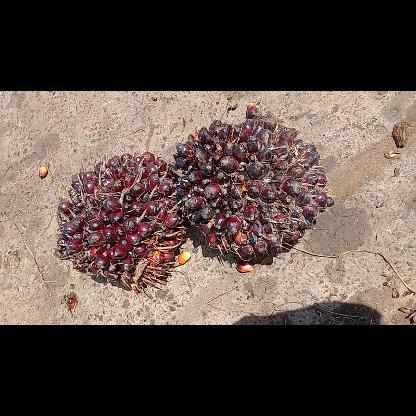Kurang masak: (172, 117, 336, 261), (54, 148, 190, 294)
